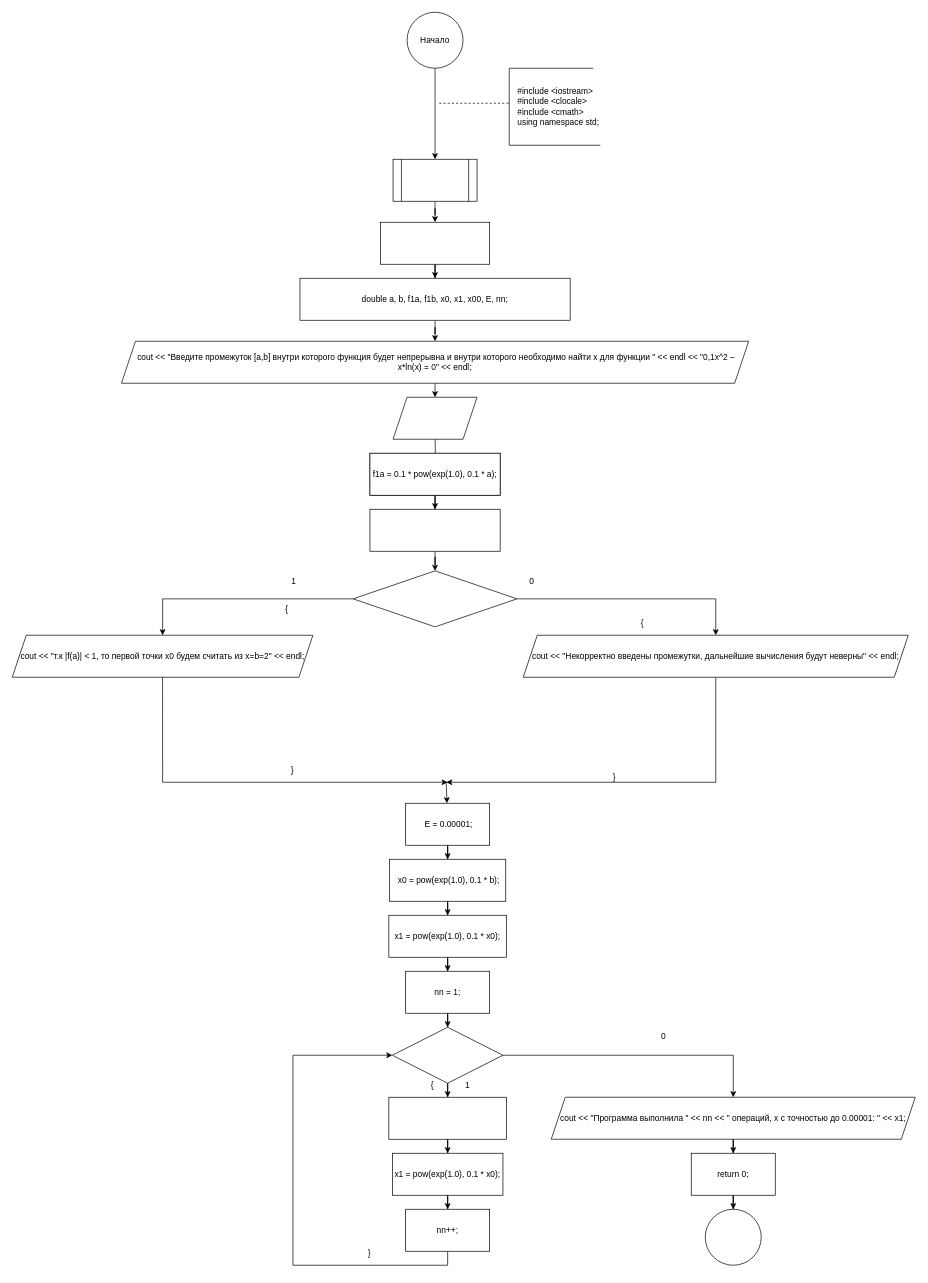
Some shapes in this 928 by 1283 pixel diagram are drawn without their labels. The centre of each missing label's shape, as x and y in pixels:
cin >> a >> b;: the point at 434,418
f1b = 0.1 * pow(exp(1.0), 0.1 * b);: the point at 434,530
if ((abs(f1a) < 1) and ((abs(f1b) < 1))): the point at 434,598
int main(): the point at 434,180
setlocale(LC_ALL, "RU");: the point at 435,243
while (abs(x1 - x0) >= E): the point at 447,1055
x0 = pow(exp(1.0), 0.1 * x1);: the point at 447,1118
Конец: the point at 733,1237
